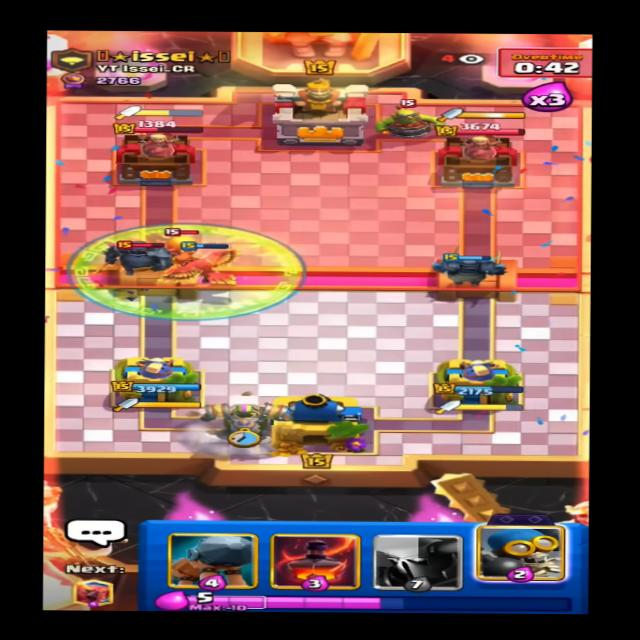goblin-demolisher: (375, 95, 449, 142)
pekka: (100, 234, 186, 275)
phoenix-egg: (161, 227, 203, 260)
